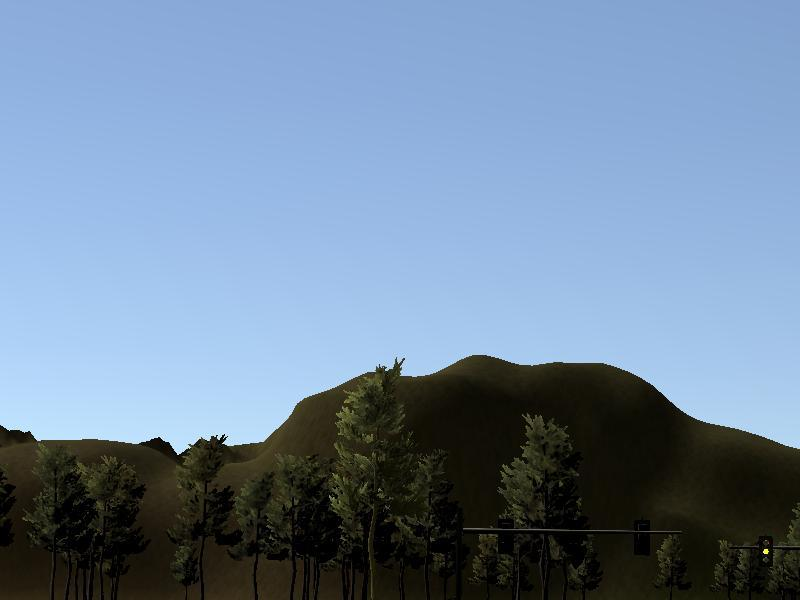Yellow: (760, 535, 773, 567)
